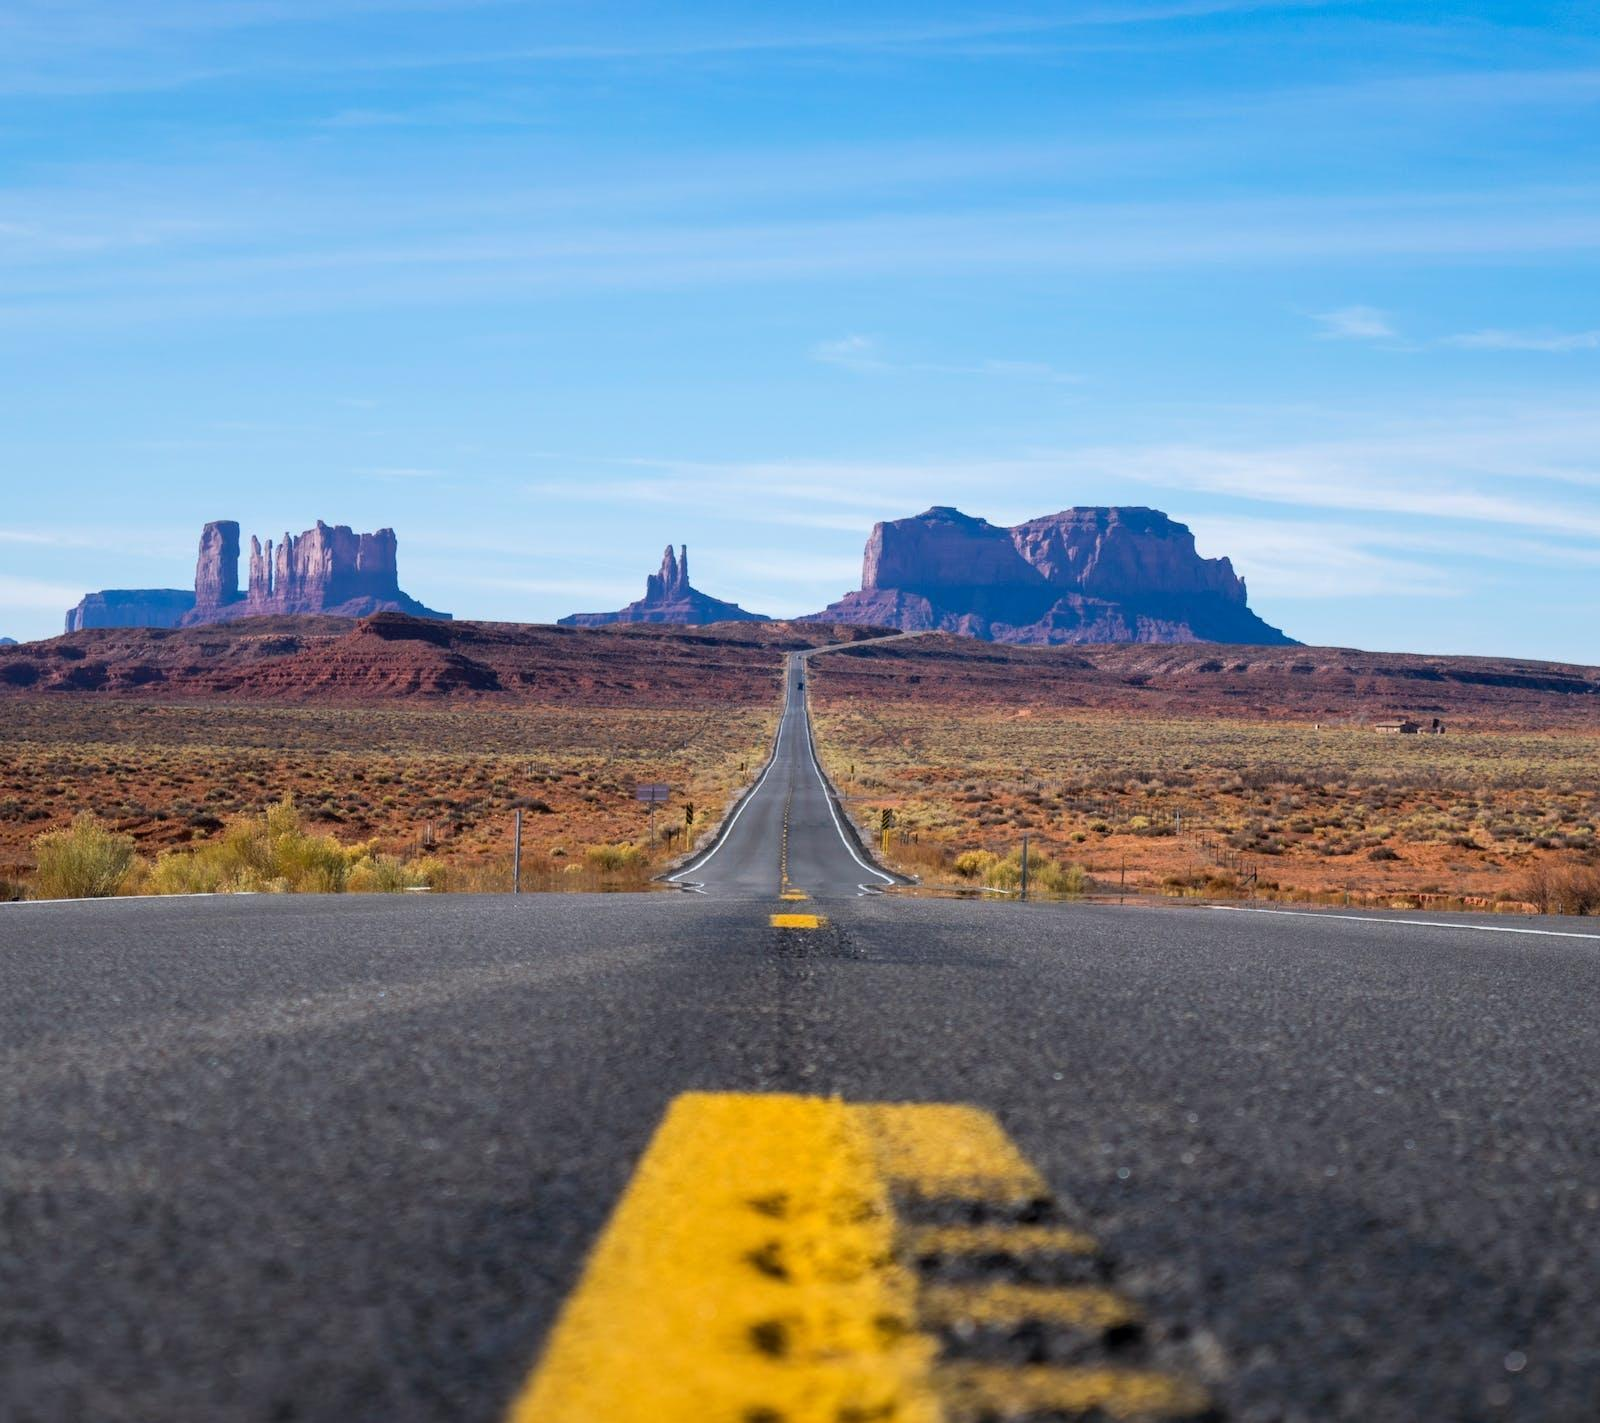field: (0, 615, 864, 885), (812, 635, 1599, 902)
road: (0, 894, 1599, 1418), (666, 633, 906, 897)
